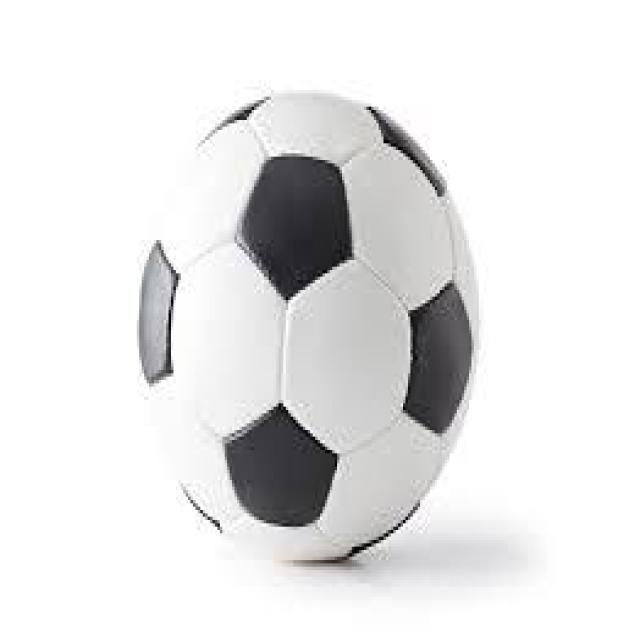Soccer Ball: (139, 87, 479, 570)
